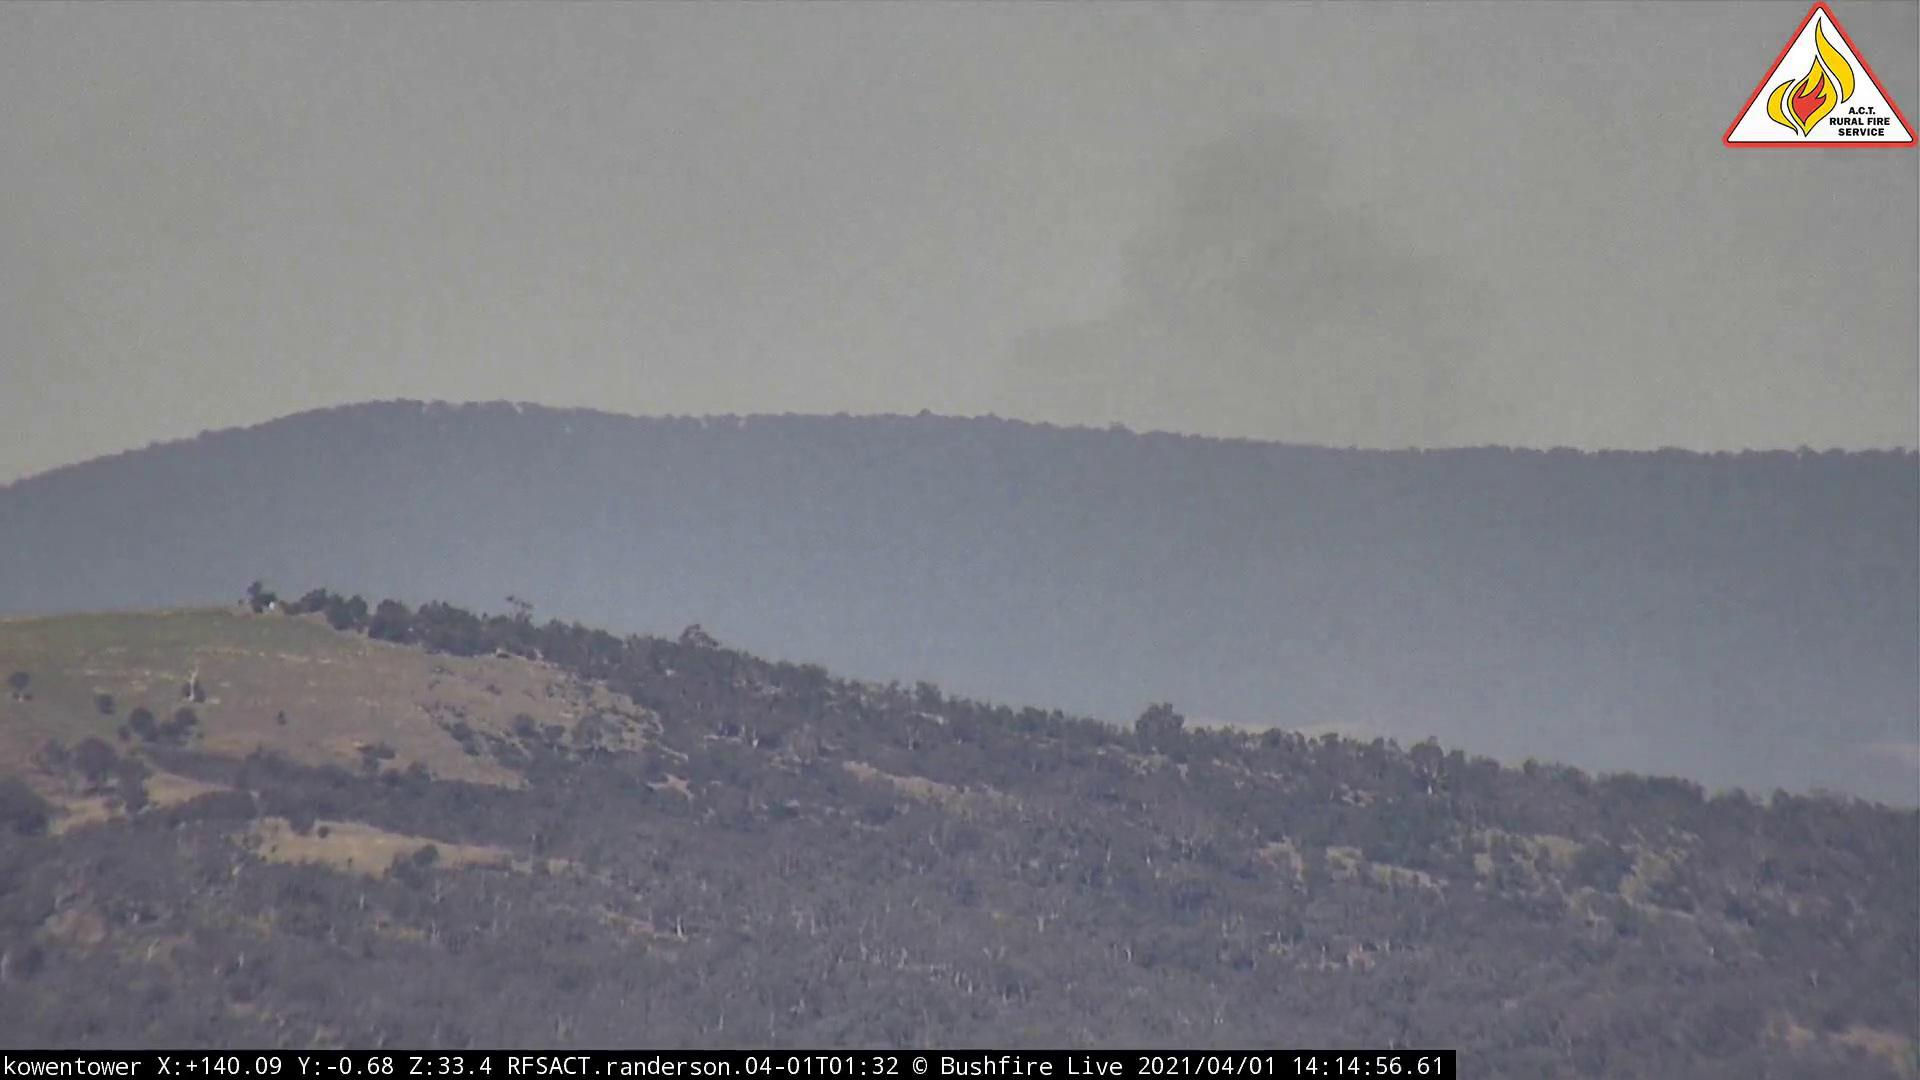Smoke: (967, 95, 1629, 566)
